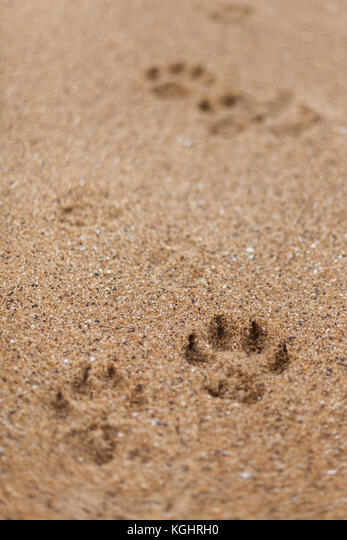chien: (181, 310, 293, 409)
